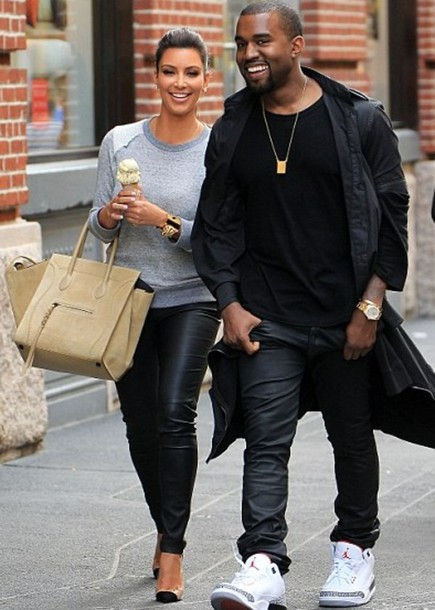Person: (217, 4, 405, 609), (45, 30, 215, 610)
